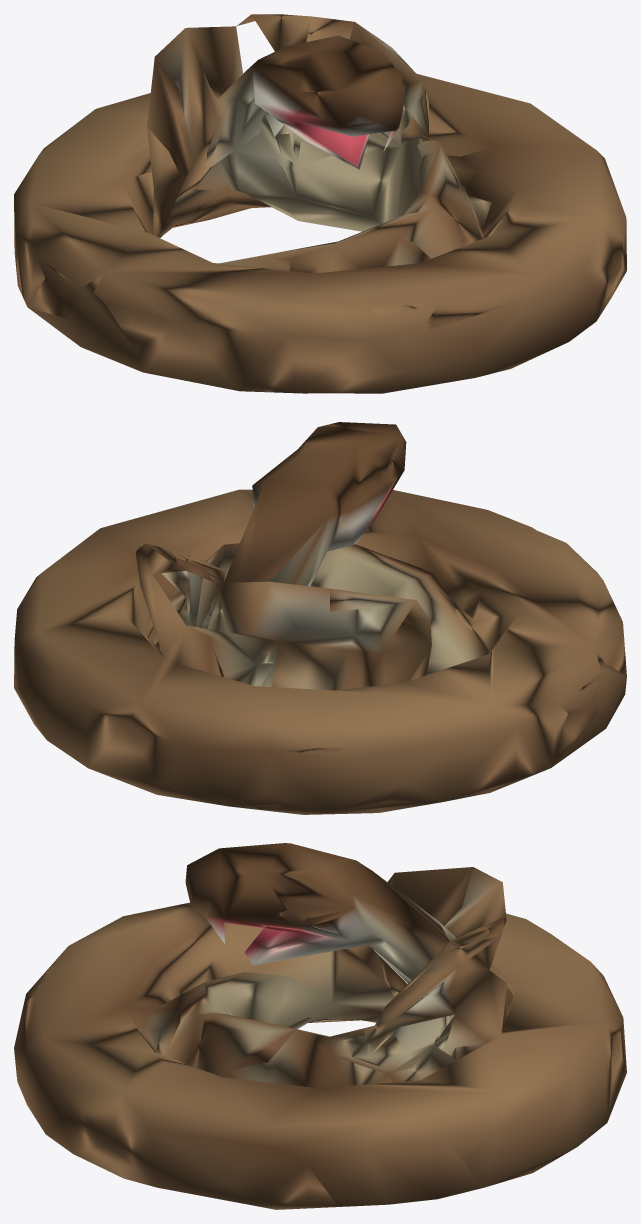
Rendered from gen3d-rattlesnake-lod1.glb.
3 renders of one model, top to bottom at view 1: azimuth 30°, elevation 25°; view 2: azimuth 150°, elevation 25°; view 3: azimuth 270°, elevation 25°, orthographic.
Parts seen in each view (by area): view 1: part_0; view 2: part_0; view 3: part_0.
Part boxes in pixels (x1,y1,x2,y2): part_0: [14, 14, 626, 393]; part_0: [14, 422, 626, 814]; part_0: [14, 843, 626, 1209].
Bounding box in the file's own units: 2.08 × 0.9877 × 2.1.
